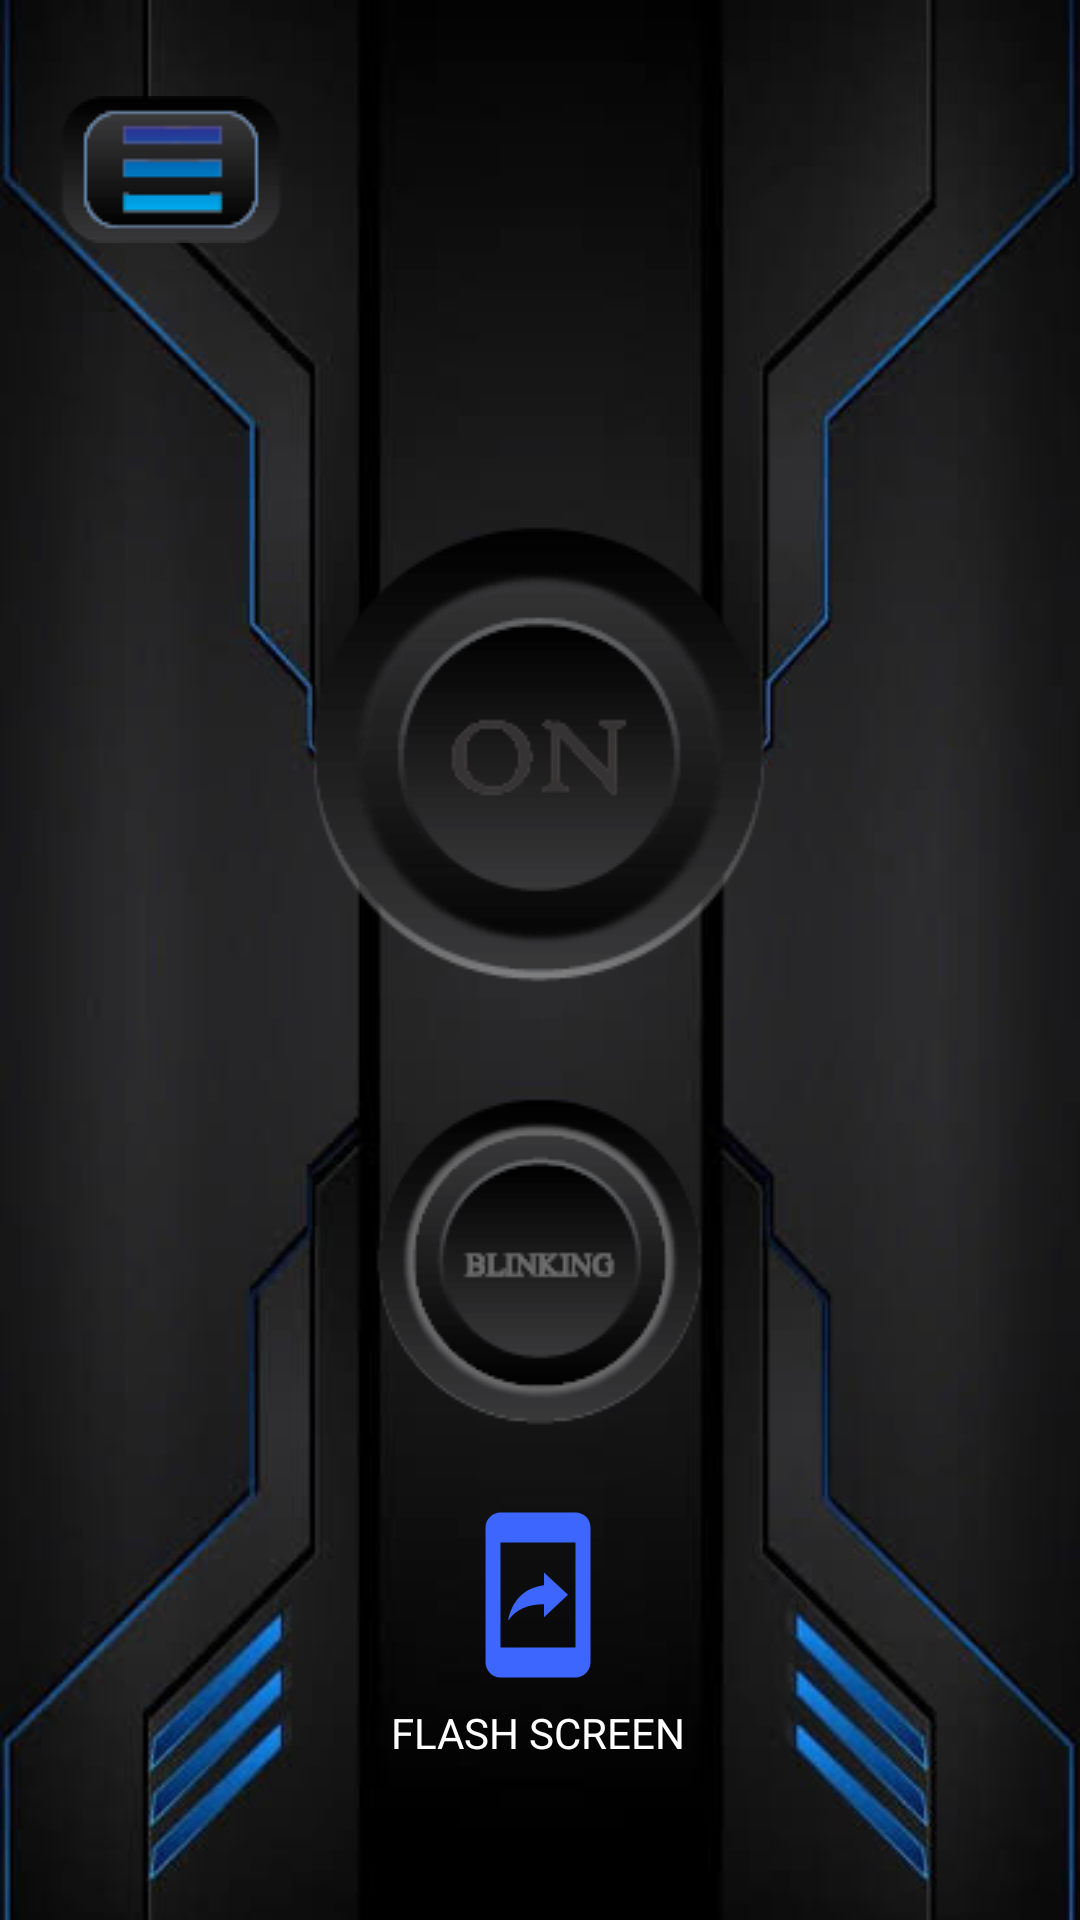

Where icons sit on this 1080px×1920px app screen, as (x1, y1, x2, y2):
menu: (64, 110, 278, 255)
